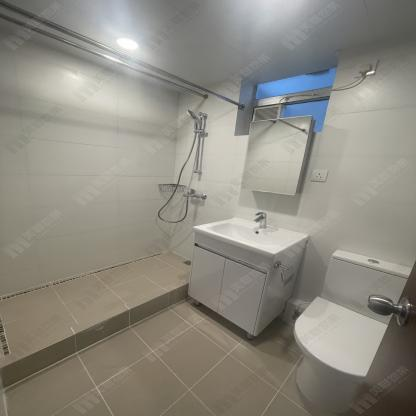Exhaust Fan: (252, 104, 285, 121)
Toilet: (292, 249, 413, 413)
Toilet Sink: (191, 217, 310, 260)
